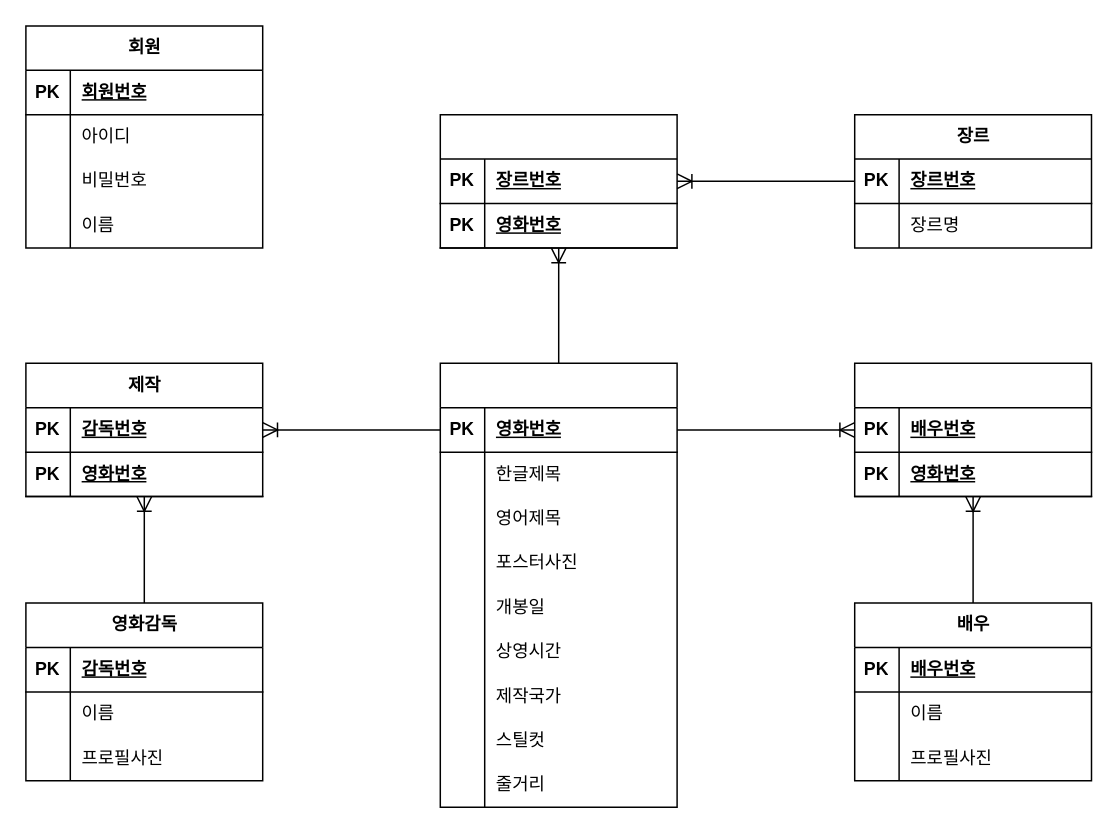
Some shapes in this 1117 by 833 pixel diagram are drawn without their labels. The box of each missing label's shape, as (x1, y1, x2, y2) in pixels:
분류: (439, 113, 677, 248)
영화: (439, 362, 677, 807)
출연: (853, 362, 1092, 497)
